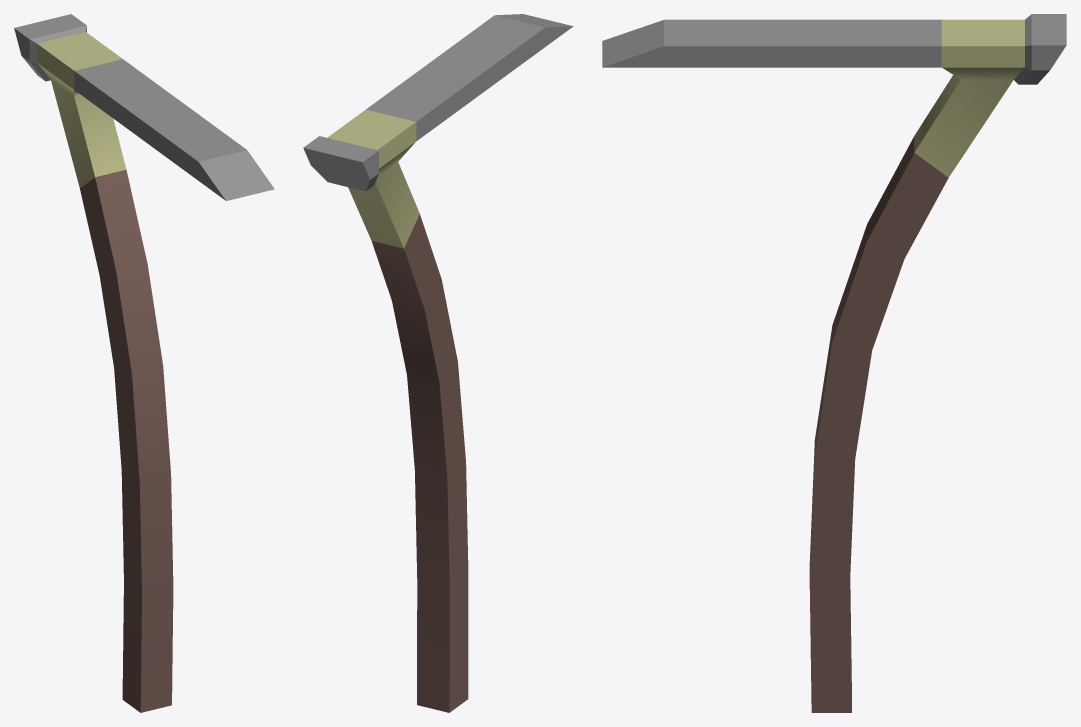
File: wepWorker.fbx
3 views of the same model, side by side, from view 1: azimuth 30°, elevation 25°; view 2: azimuth 150°, elevation 25°; view 3: azimuth 270°, elevation 25° (orthographic). The views are drawn at different scales.
Parts seen in each view (by area): view 1: wepWorker; view 2: wepWorker; view 3: wepWorker.
Part boxes in pixels (x1,y1,x2,y2): wepWorker: [14, 14, 274, 712]; wepWorker: [303, 14, 573, 712]; wepWorker: [602, 14, 1066, 712].
Size of the model in its own units: 1.96 by 19.75 by 12.31.
